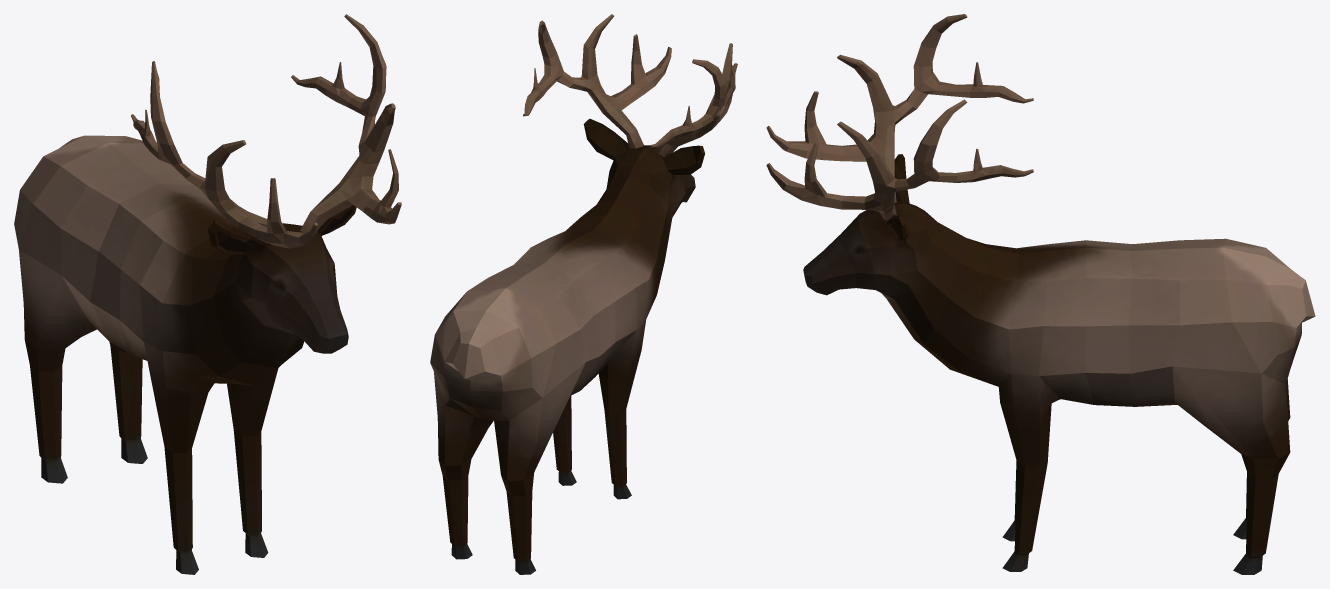
Rendered from animals-elk-086.glb.
3 views of the same model, side by side, from view 1: azimuth 30°, elevation 25°; view 2: azimuth 150°, elevation 25°; view 3: azimuth 270°, elevation 25° (orthographic). The views are drawn at different scales.
Visible parts, largest first — view 1: Elk_mesh; view 2: Elk_mesh; view 3: Elk_mesh.
Part boxes in pixels (x1,y1,x2,y2): Elk_mesh: (14, 14, 401, 574); Elk_mesh: (430, 14, 737, 574); Elk_mesh: (766, 14, 1315, 574).
Size of the model in its own units: 7.04 by 15.74 by 15.79.
1 material, 1 textured.
